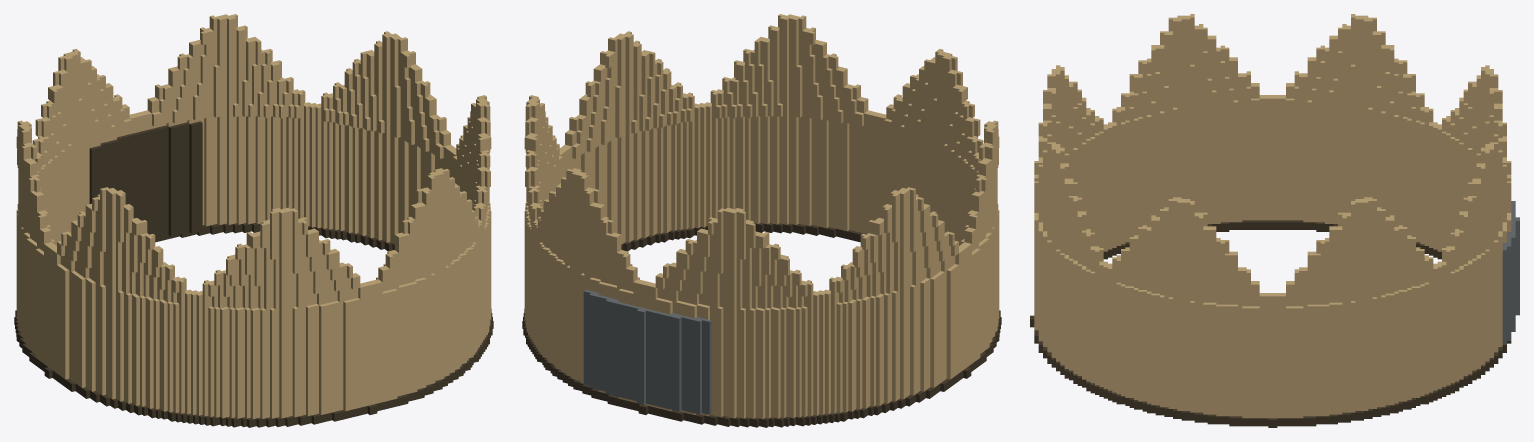
File: cardboard_crown_loose.glb
3 renders of one model, left to right at view 1: azimuth 30°, elevation 25°; view 2: azimuth 150°, elevation 25°; view 3: azimuth 270°, elevation 25°, orthographic.
Parts seen in each view (by area): view 1: cardboard_crown_loose:compound; view 2: cardboard_crown_loose:compound; view 3: cardboard_crown_loose:compound.
Part boxes in pixels (box(x1,y1,x2,y2)): cardboard_crown_loose:compound: box(14, 14, 493, 427); cardboard_crown_loose:compound: box(522, 14, 1001, 427); cardboard_crown_loose:compound: box(1030, 14, 1519, 427).
Size of the model in its own units: 0.224 by 0.11 by 0.226.
